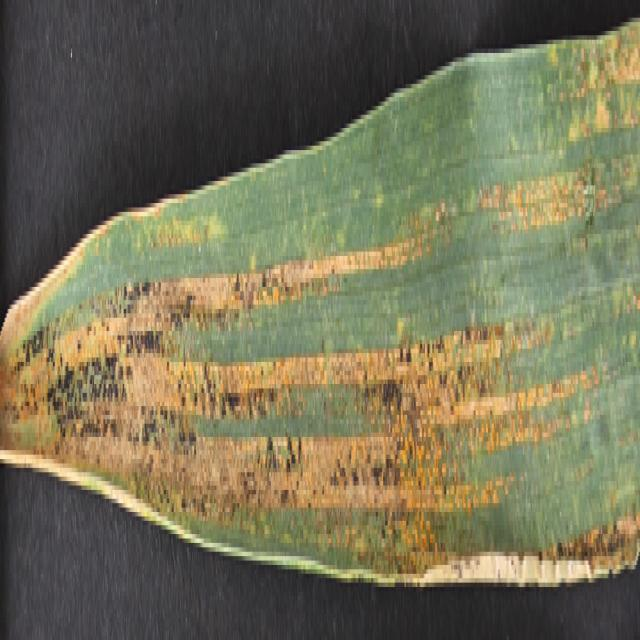leaf rust: (1, 119, 612, 525)
